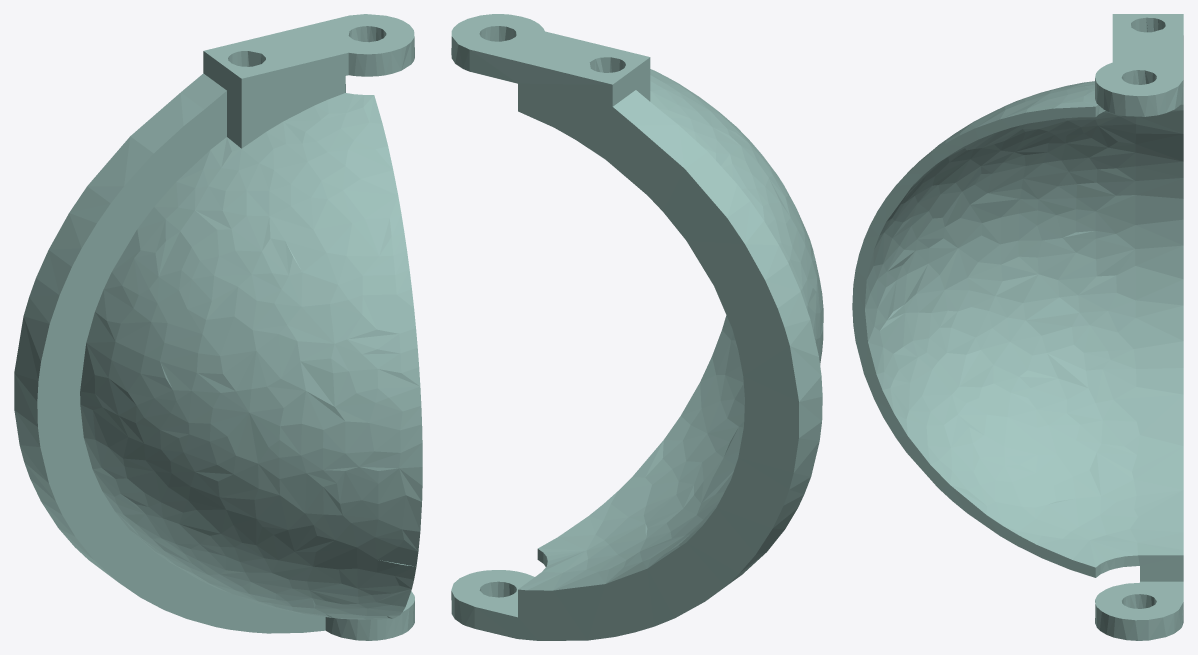
Rendered from i02_head_right_bottom_eyelid_visual.obj.balanced.glb.
3 renders of one model, left to right at view 1: azimuth 30°, elevation 25°; view 2: azimuth 150°, elevation 25°; view 3: azimuth 270°, elevation 25°, orthographic. The views are drawn at different scales.
Size of the model in its own units: 0.2114 by 0.3195 by 0.1761.
